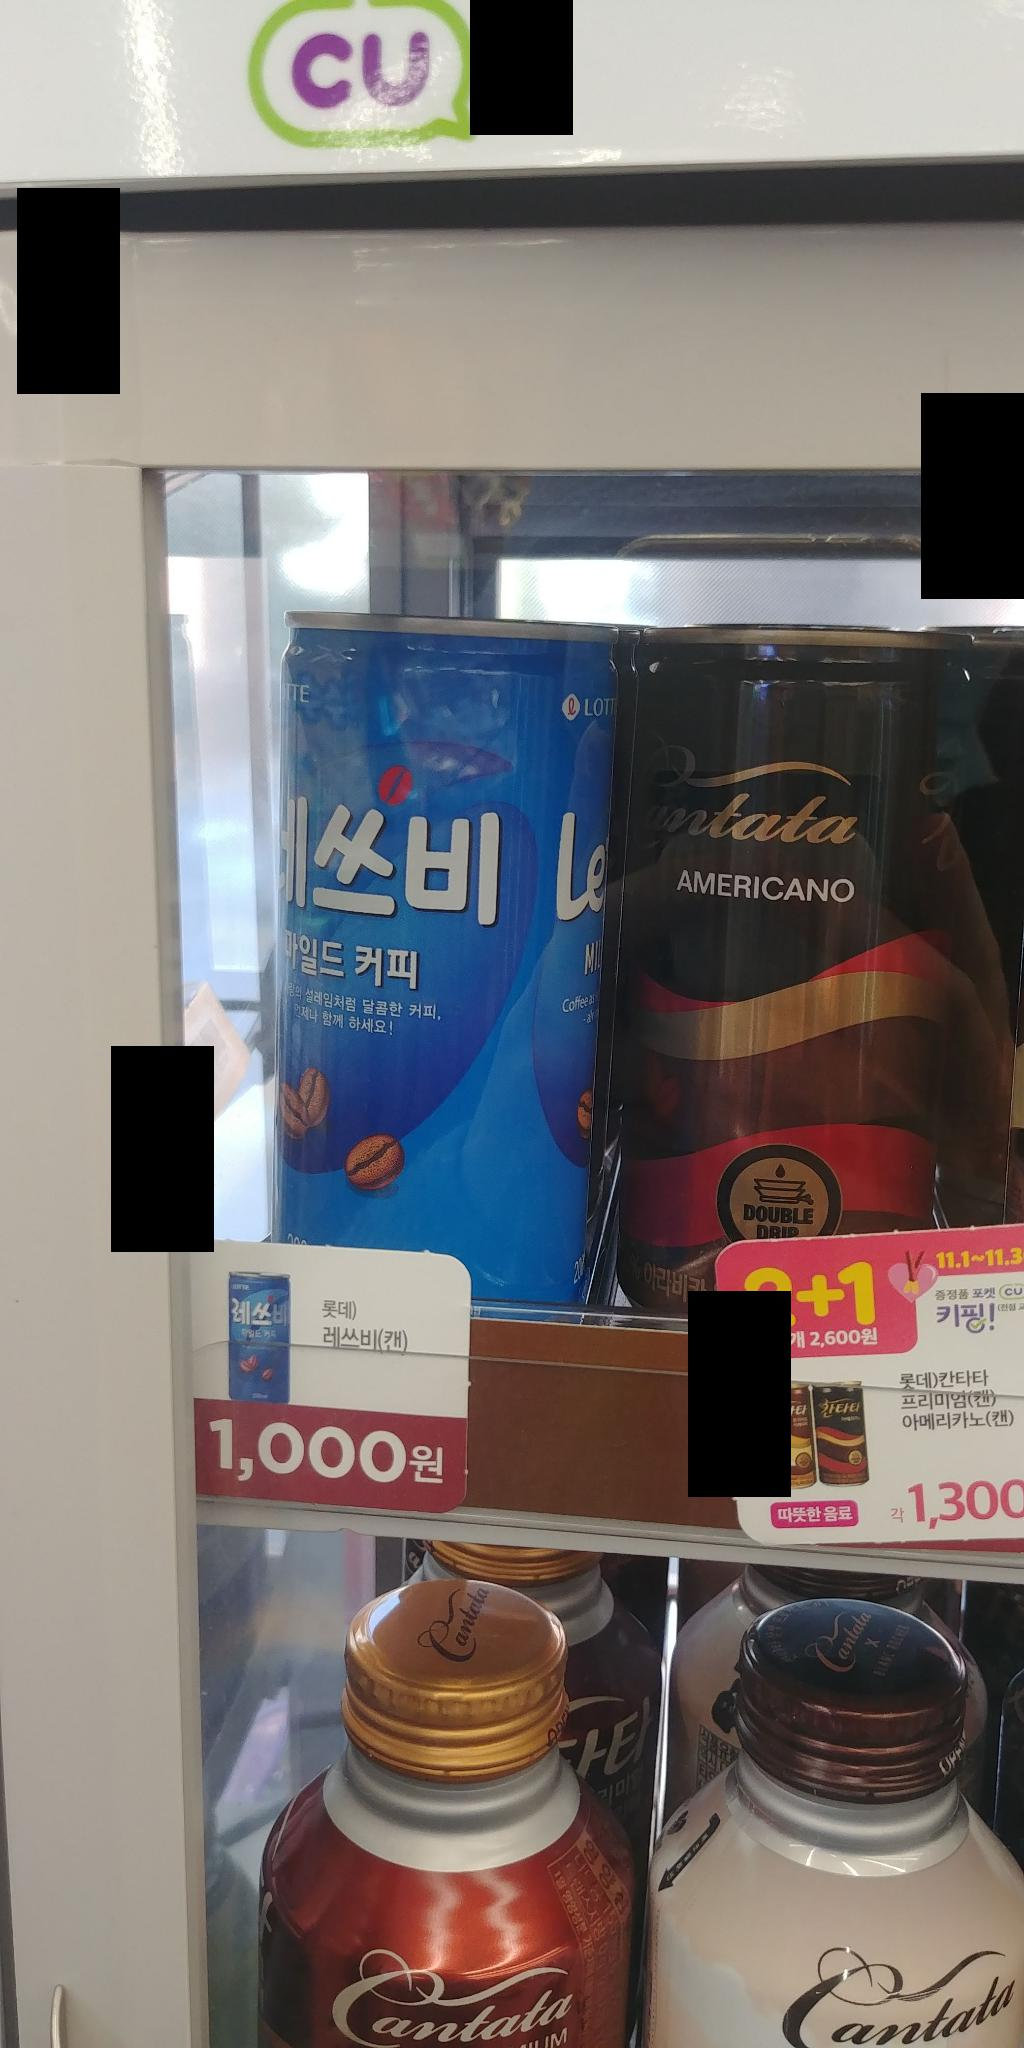letsbe: (234, 571, 610, 1313)
